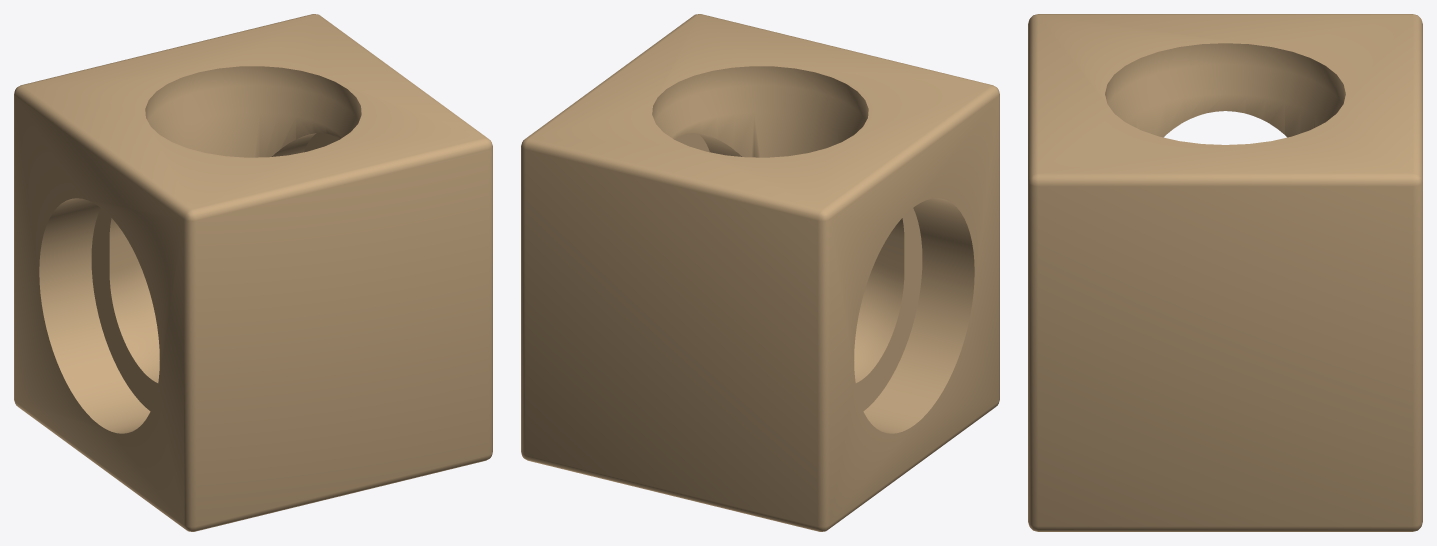
File: blk_tower_socket_l1.glb
The picture shows the model from 3 angles, left to right: view 1: azimuth 30°, elevation 25°; view 2: azimuth 150°, elevation 25°; view 3: azimuth 270°, elevation 25°; orthographic projection. The views are drawn at different scales.
Visible parts, largest first — view 1: blk_tower_socket_l1_lod0; view 2: blk_tower_socket_l1_lod0; view 3: blk_tower_socket_l1_lod0.
Boxes of the visible parts, bbox=[...] form: blk_tower_socket_l1_lod0: bbox=[14, 14, 492, 531]; blk_tower_socket_l1_lod0: bbox=[521, 14, 999, 531]; blk_tower_socket_l1_lod0: bbox=[1028, 14, 1422, 531].
Size of what is drawn, in the model's own units: 0.059 by 0.059 by 0.059.
